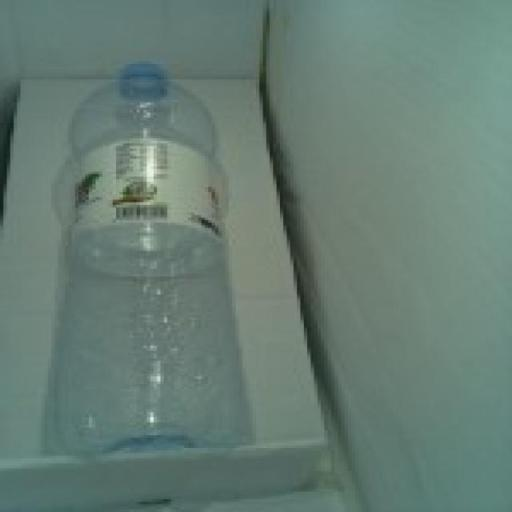plastic: (33, 37, 279, 482)
